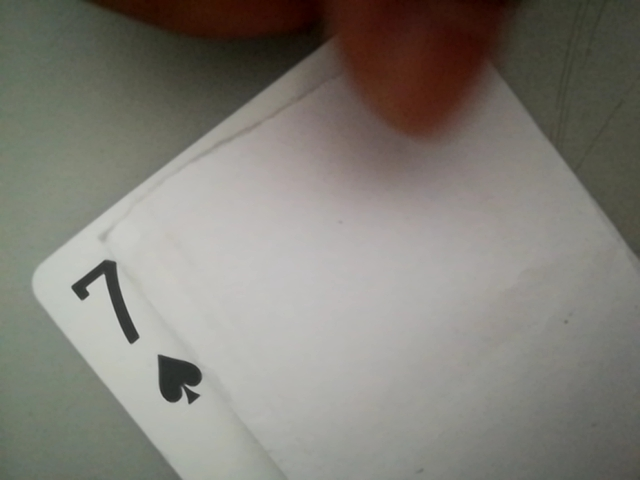ht 7: (60, 245, 206, 420)
